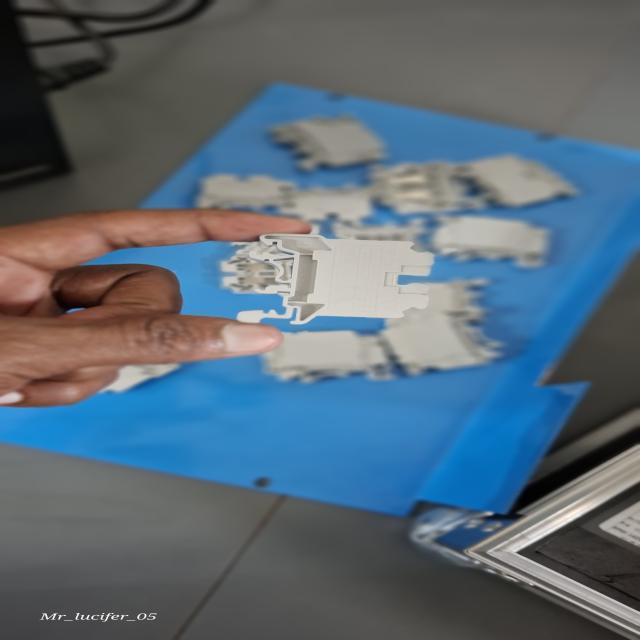Inverted: (222, 230, 442, 326)
